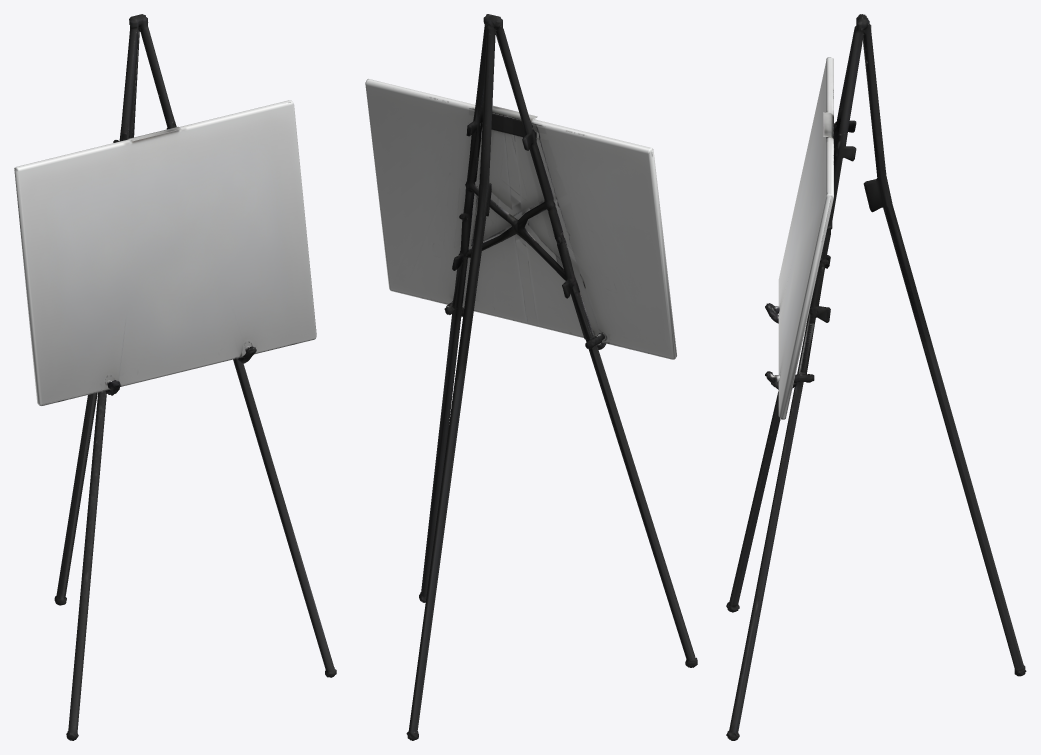
The model's file is blank_canvas_on_easel_0126175752_texture.glb.
3 views of the same model, side by side, from view 1: azimuth 30°, elevation 25°; view 2: azimuth 150°, elevation 25°; view 3: azimuth 270°, elevation 25° (orthographic). The views are drawn at different scales.
Parts seen in each view (by area): view 1: Mesh_0; view 2: Mesh_0; view 3: Mesh_0.
Boxes of the visible parts, left/top/right/bottom form: Mesh_0: left=14, top=14, right=336, bottom=740; Mesh_0: left=365, top=14, right=697, bottom=740; Mesh_0: left=726, top=14, right=1026, bottom=740.
Size of the model in its own units: 0.6853 by 1.52 by 0.629.
1 material, 1 textured.
